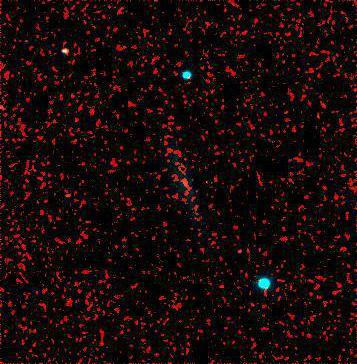star: (206, 275, 236, 305)
